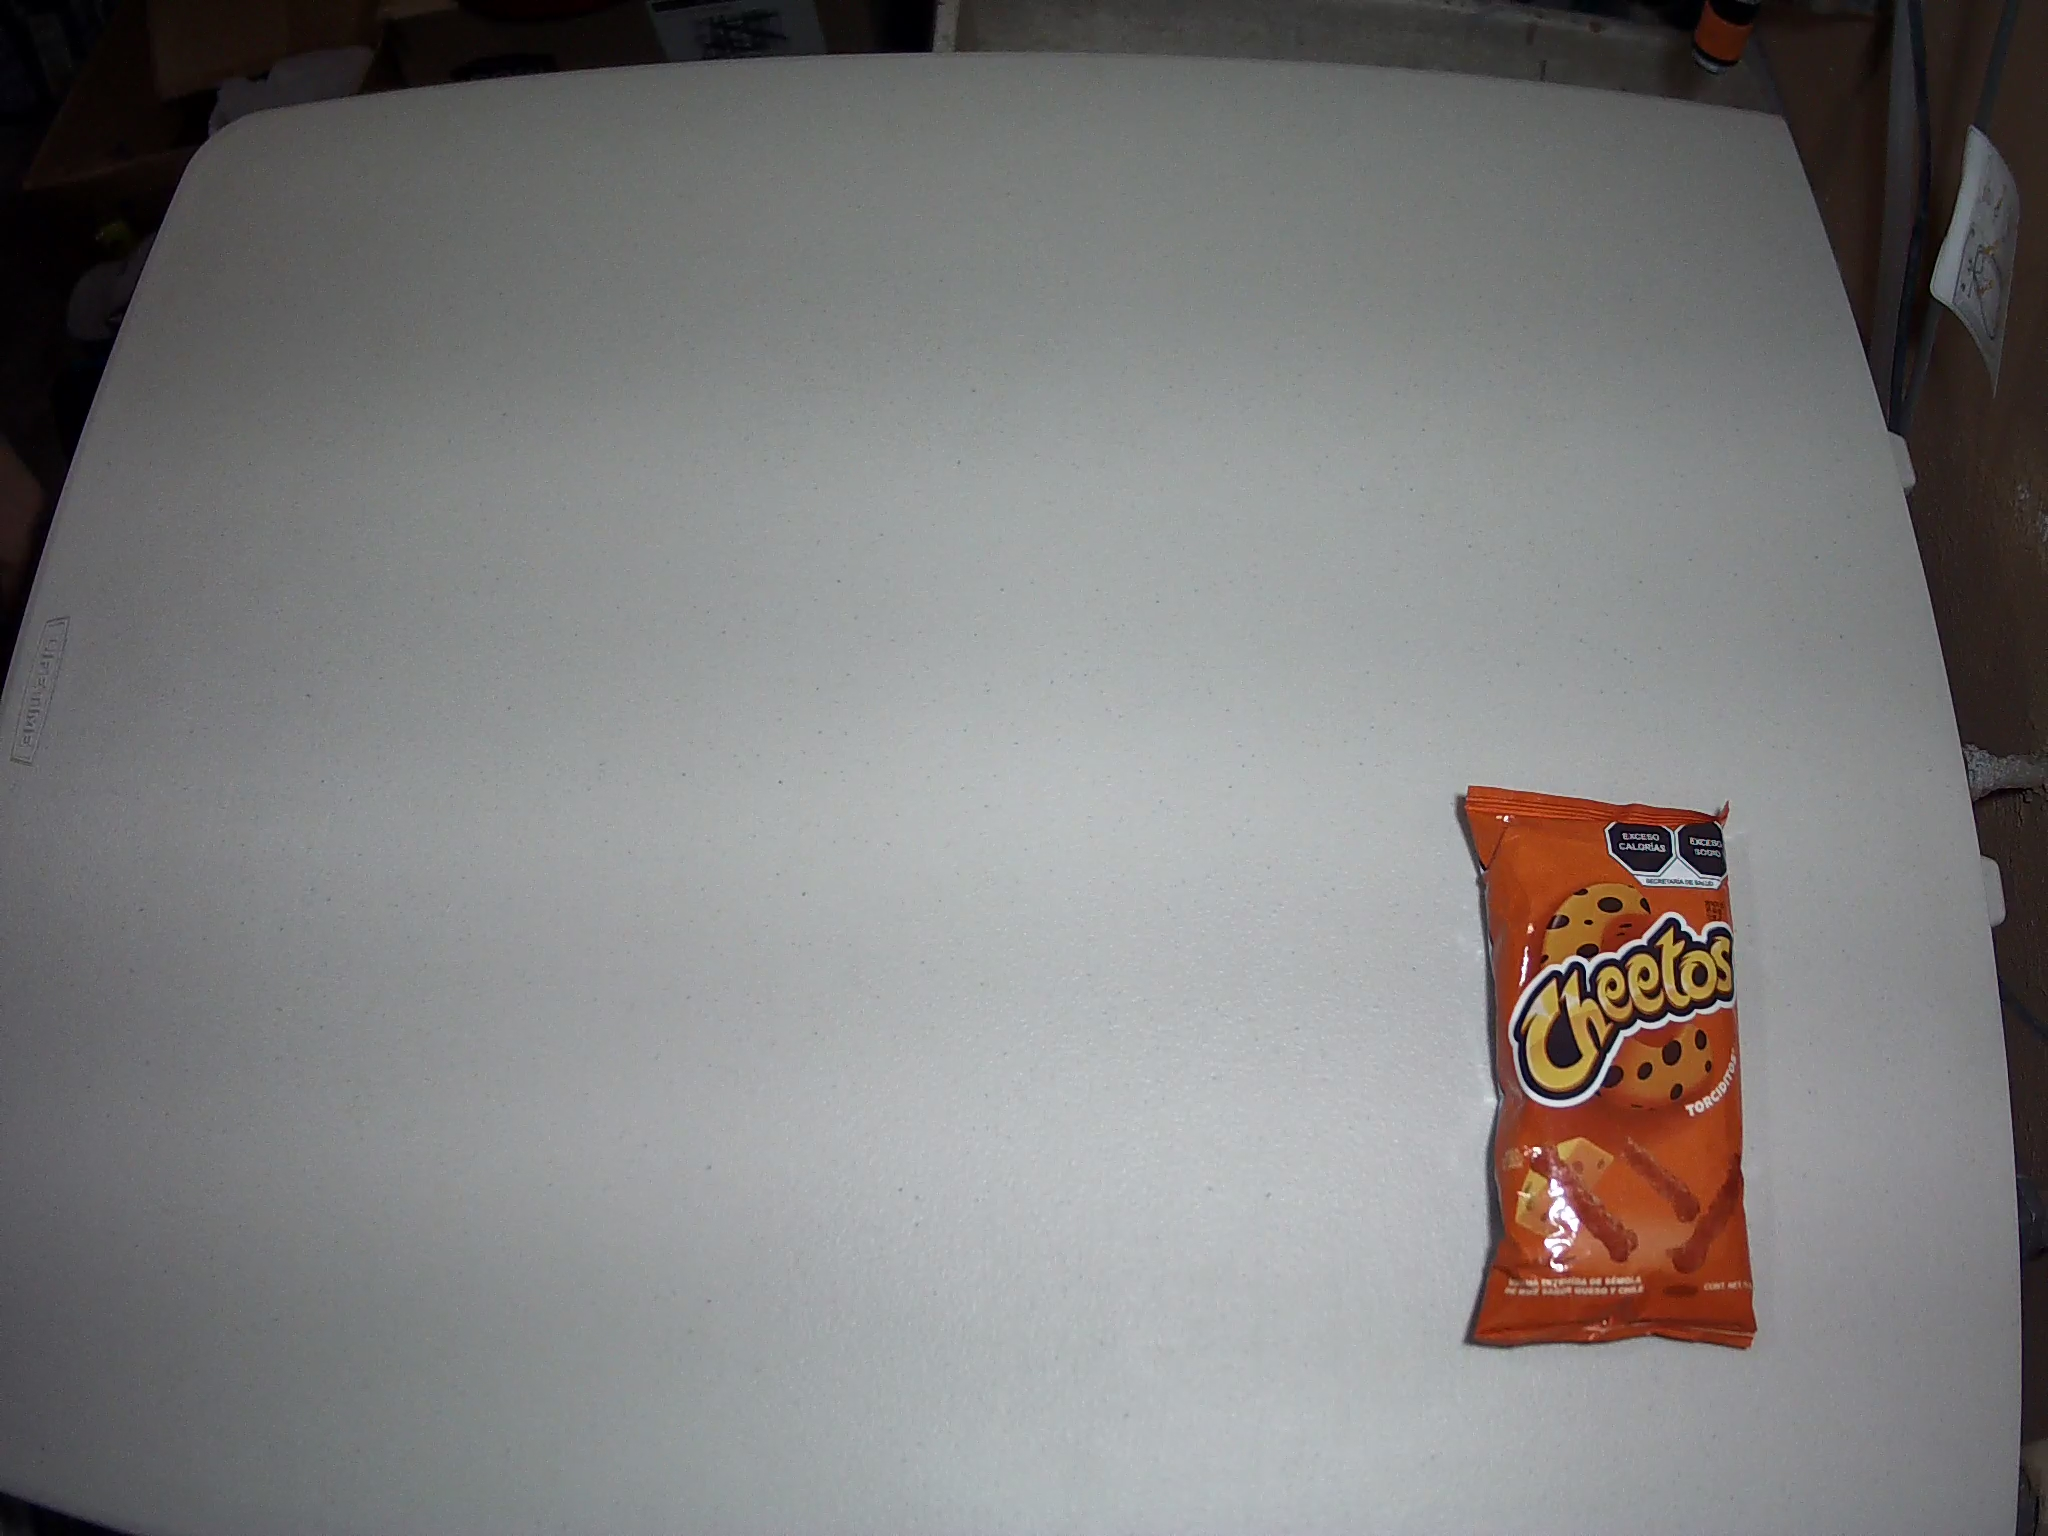CheetosTorciditos_55_F: (1463, 784, 1758, 1350)
